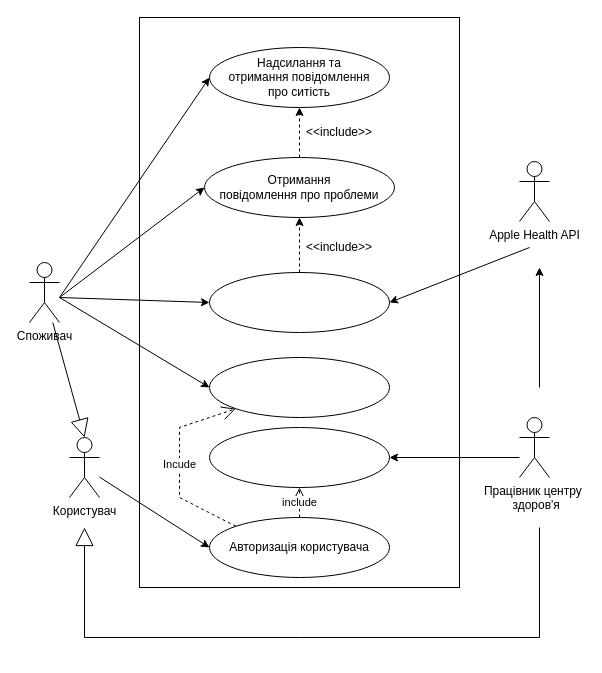
Some shapes in this 602 by 673 pixel diagram are drawn without their labels. The shapes that lost their labels are listed below. From the top down, each one's box as (x1, y1, x2, y2) in pixels, then its label:
(208, 272, 390, 332): Аналіз наданої інформації
(208, 356, 390, 418): Надання питань
(208, 426, 390, 488): Надає відповіді на питання
